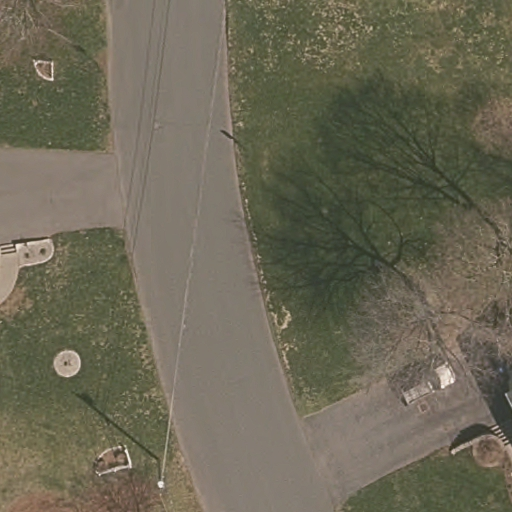DT: (154, 478, 169, 490)
